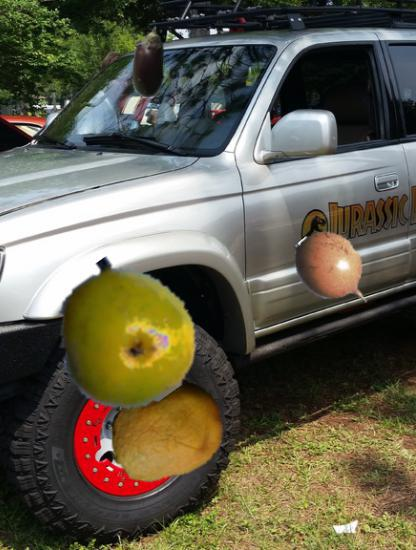Eggplant: (111, 25, 185, 99)
Granadilla: (289, 227, 379, 317)
Maracuja: (49, 260, 199, 410)
Papaya: (107, 373, 223, 489)
